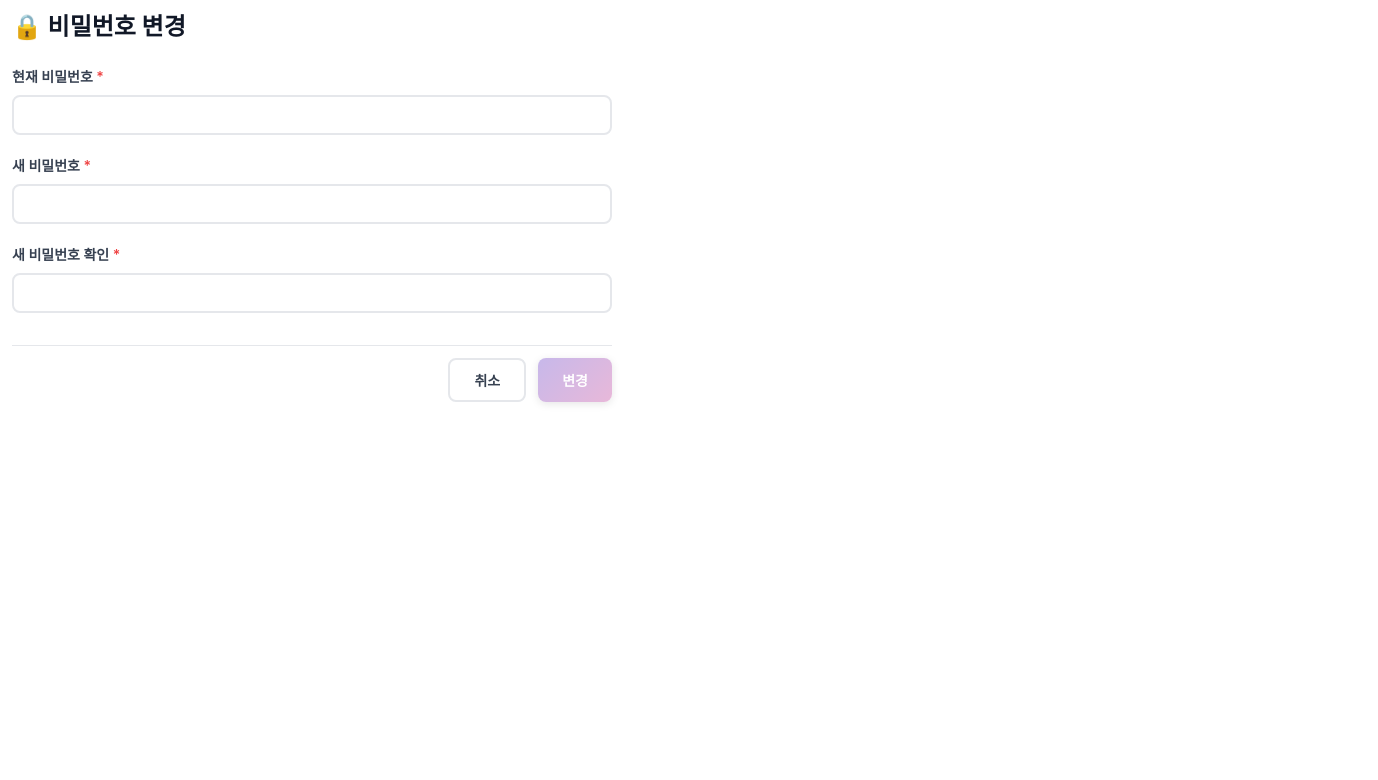
Test case: PasswordChange Component › 비밀번호 변경 › 변경 성공
The width and height of the screenshot is (1378, 780).
Type "OldPass123!" into the password field below "현재 비밀번호" at (312, 115), box [12, 95, 612, 135]
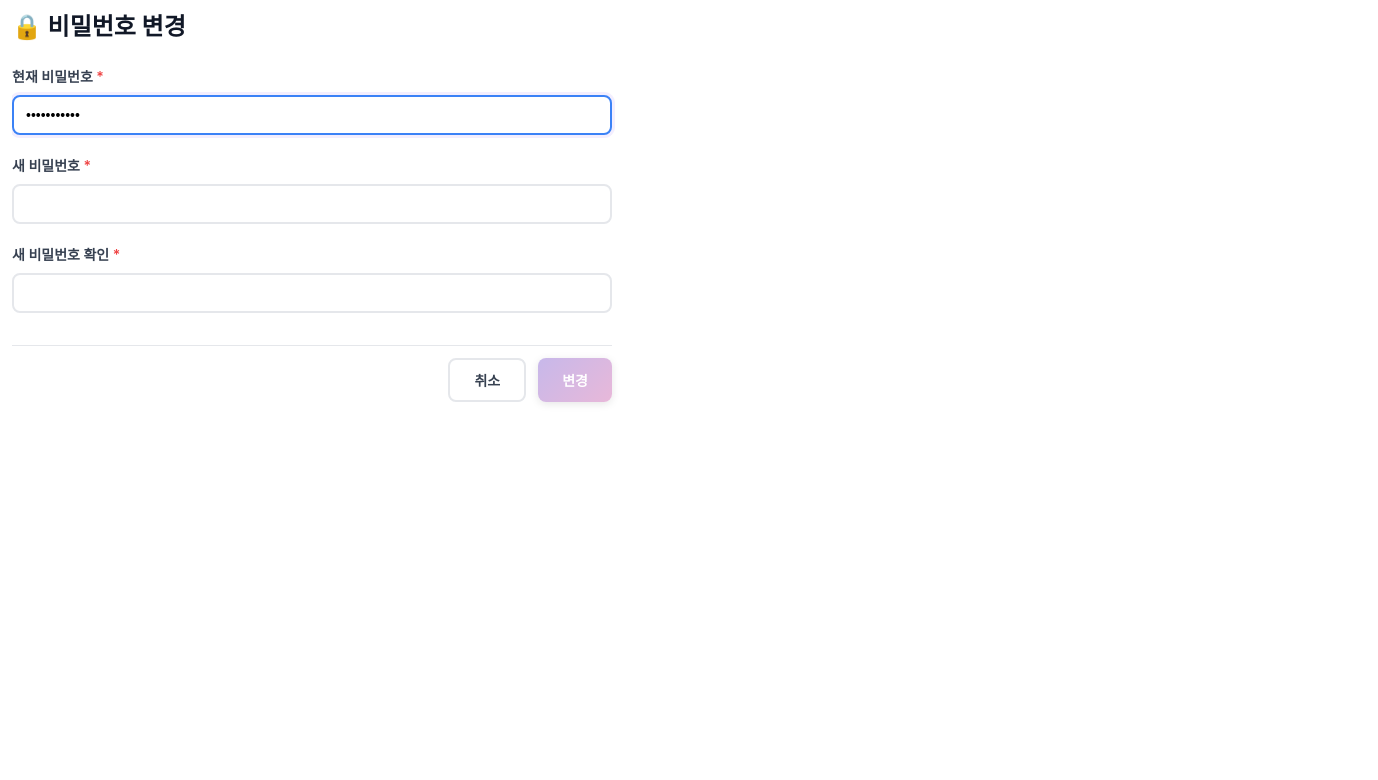
Type "NewPass123!" into the 2nd password field at (312, 204), box [12, 184, 612, 224]
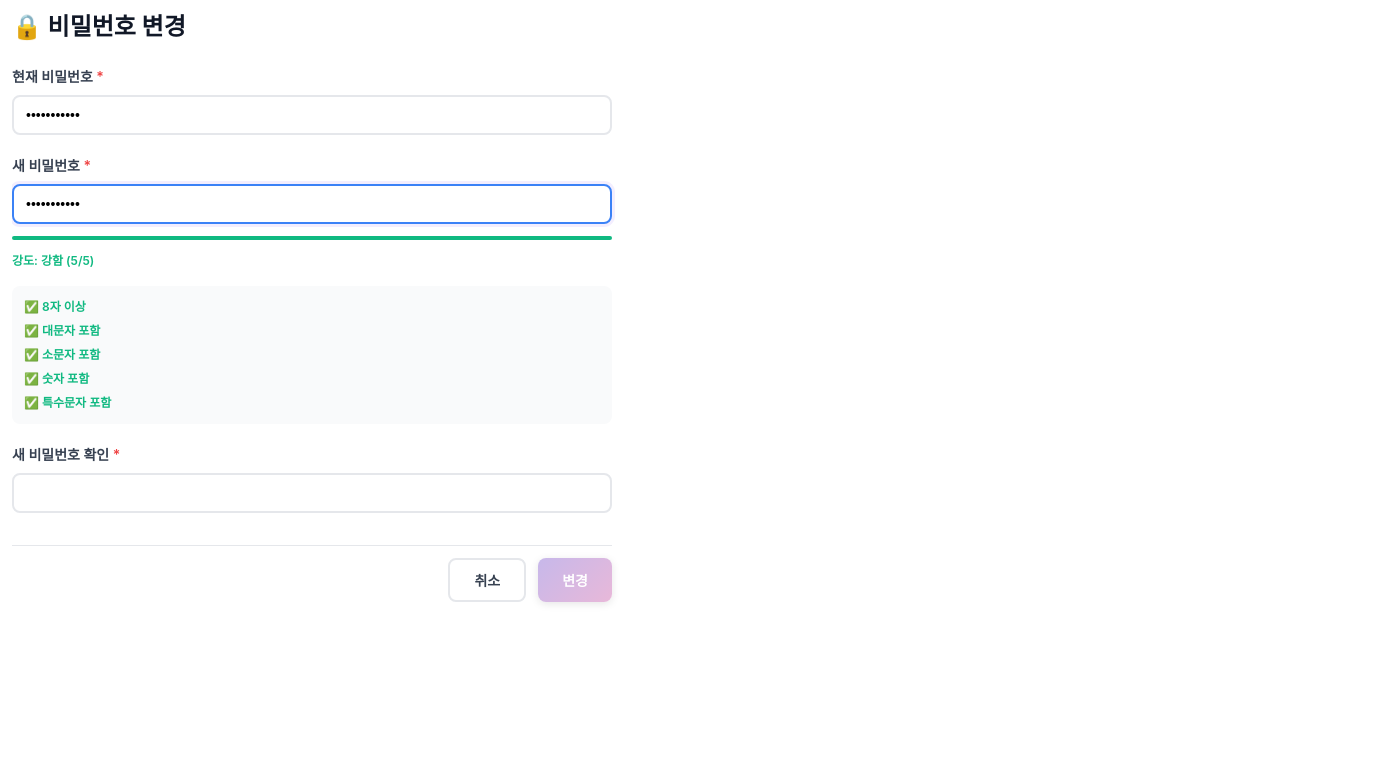
Type "NewPass123!" into the password field below "새 비밀번호 확인" at (312, 493), box [12, 473, 612, 513]
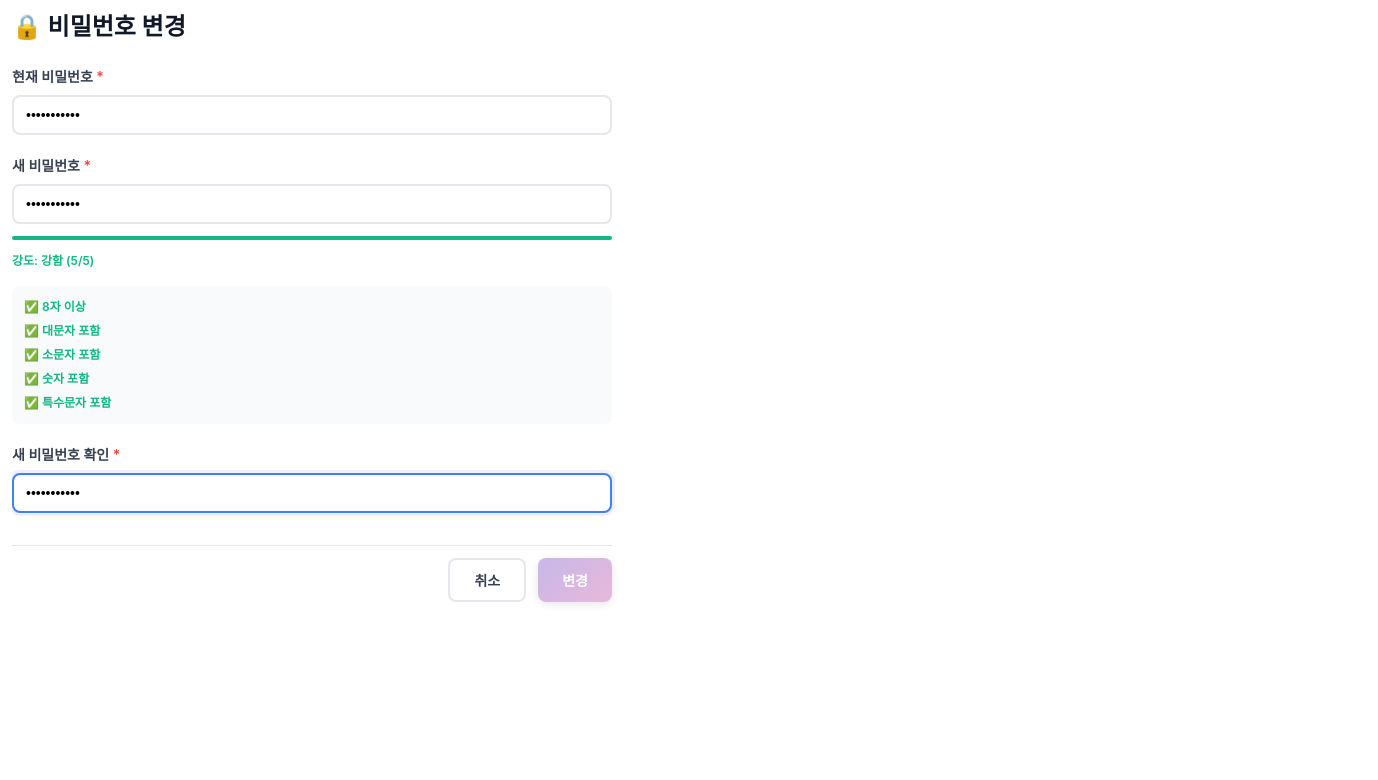
Click the button "변경" at (575, 580), box [538, 558, 612, 602]
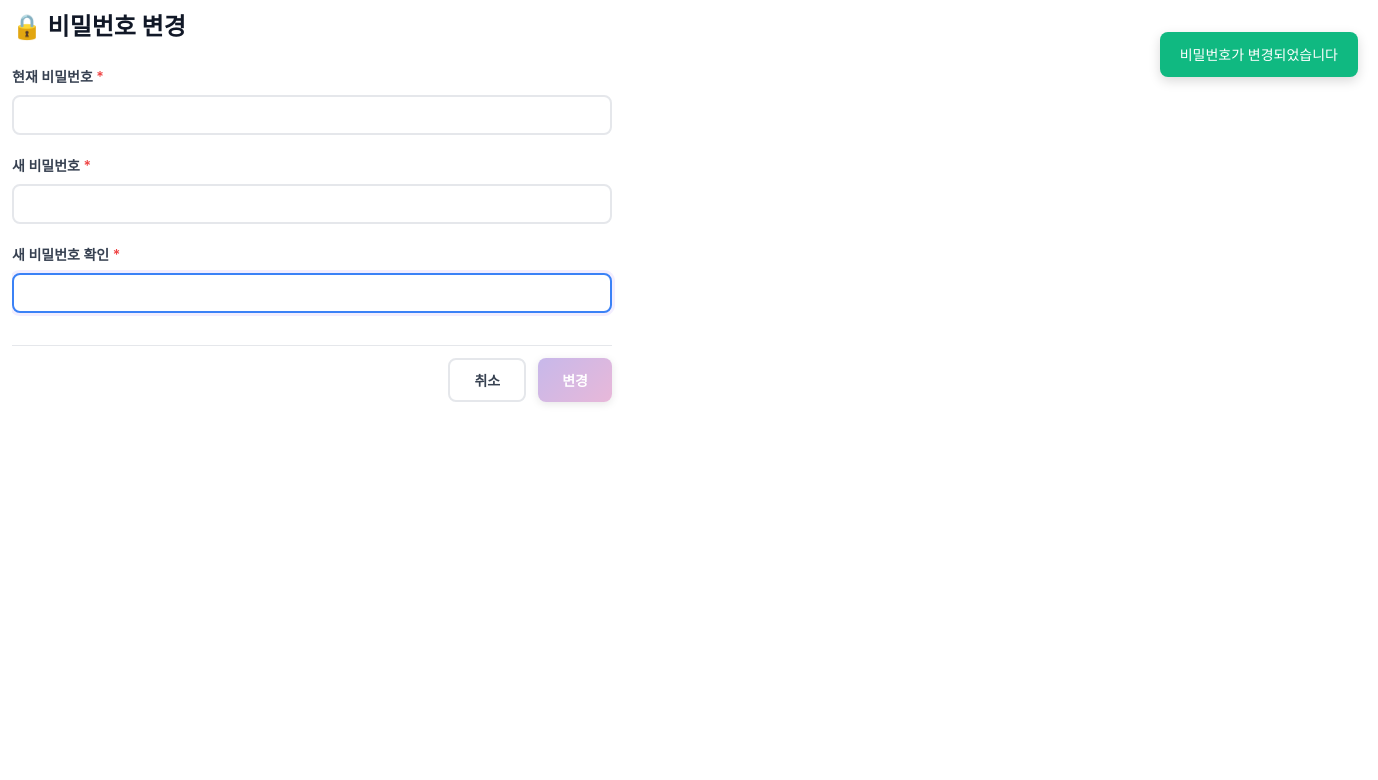
Result: the text "비밀번호가 변경되었습니다" is shown at [1160, 32, 1358, 77]
